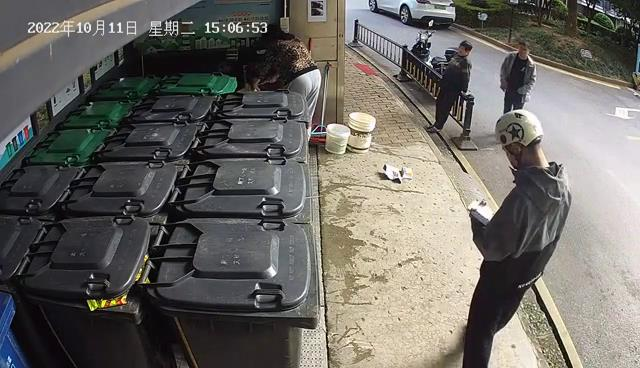person: (457, 107, 577, 368), (244, 22, 324, 154), (423, 37, 477, 135), (495, 38, 539, 119)
zhizhipin: (381, 161, 403, 185), (399, 164, 416, 183)
